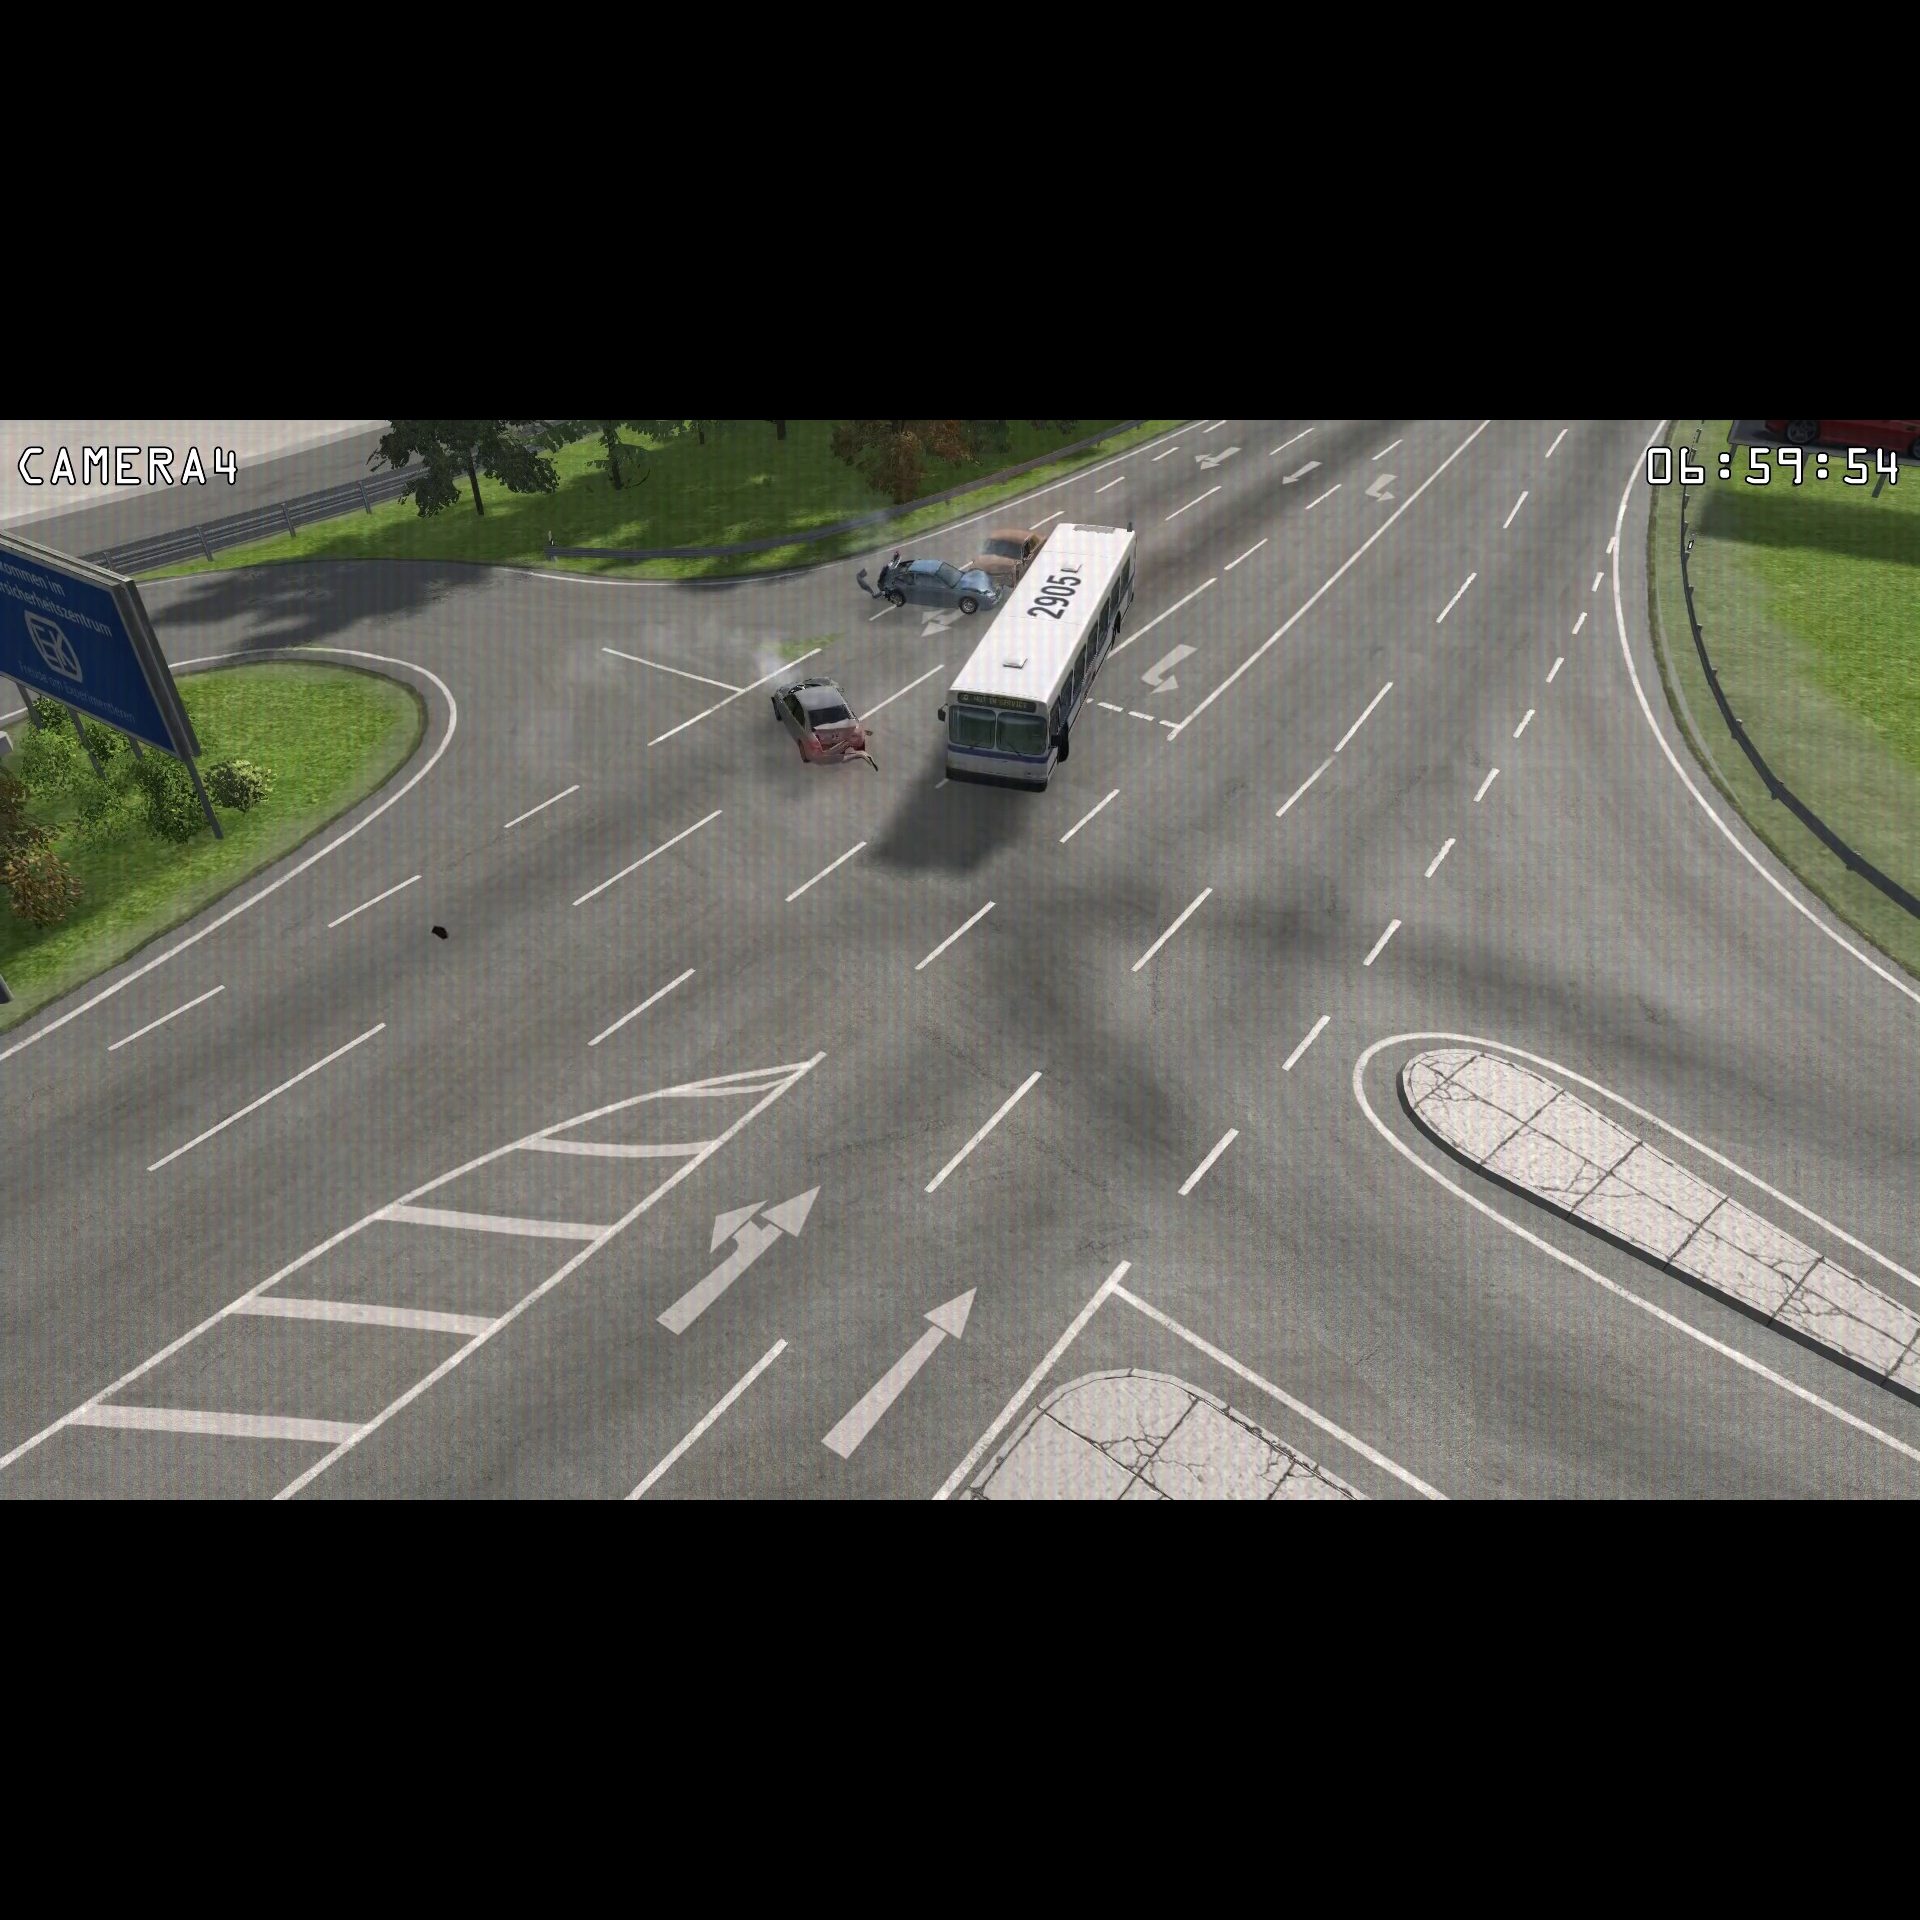vehicle: (934, 515, 1145, 802), (768, 668, 877, 772), (867, 552, 1004, 615), (972, 519, 1050, 585)
